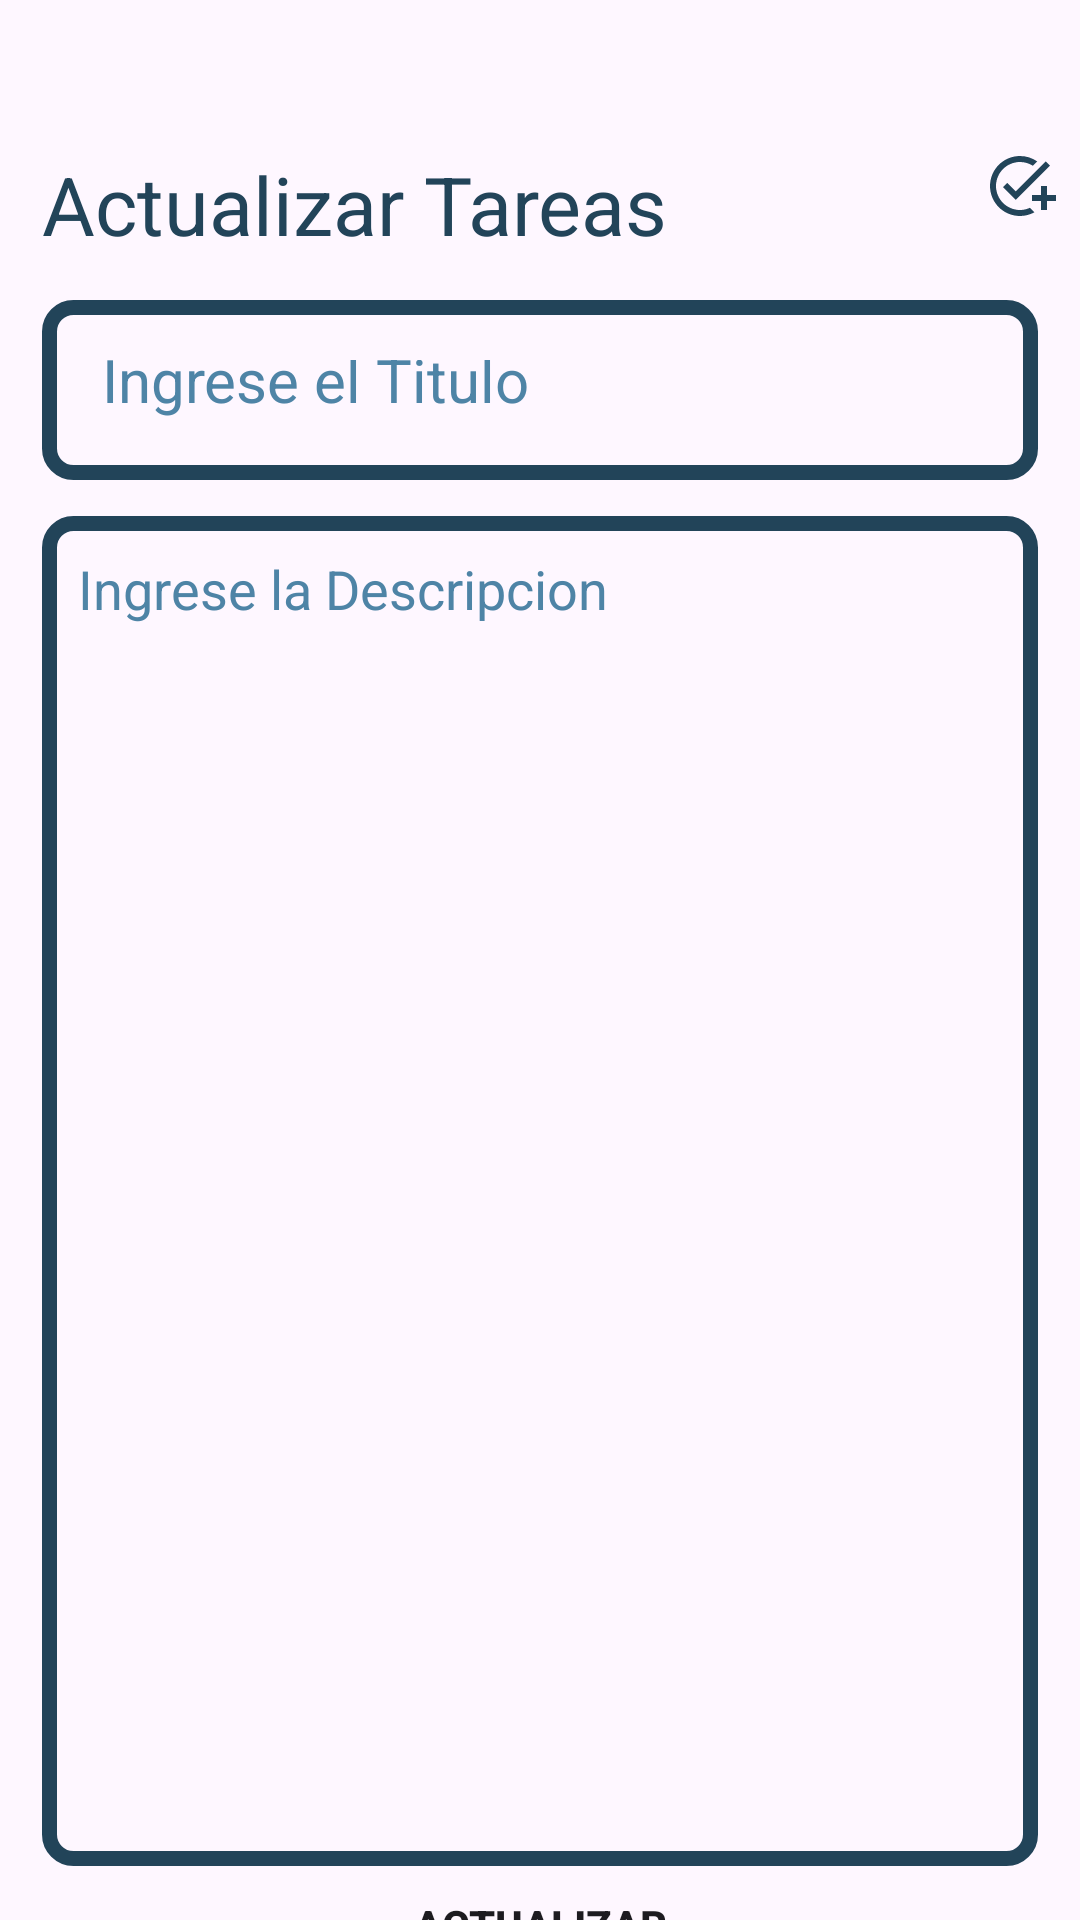

Named icons in this screenshot (1080px x 1920px) and their bounding boxes, (x1,y1,x2,y2):
Imagen Tarea: (990,156,1056,216)
